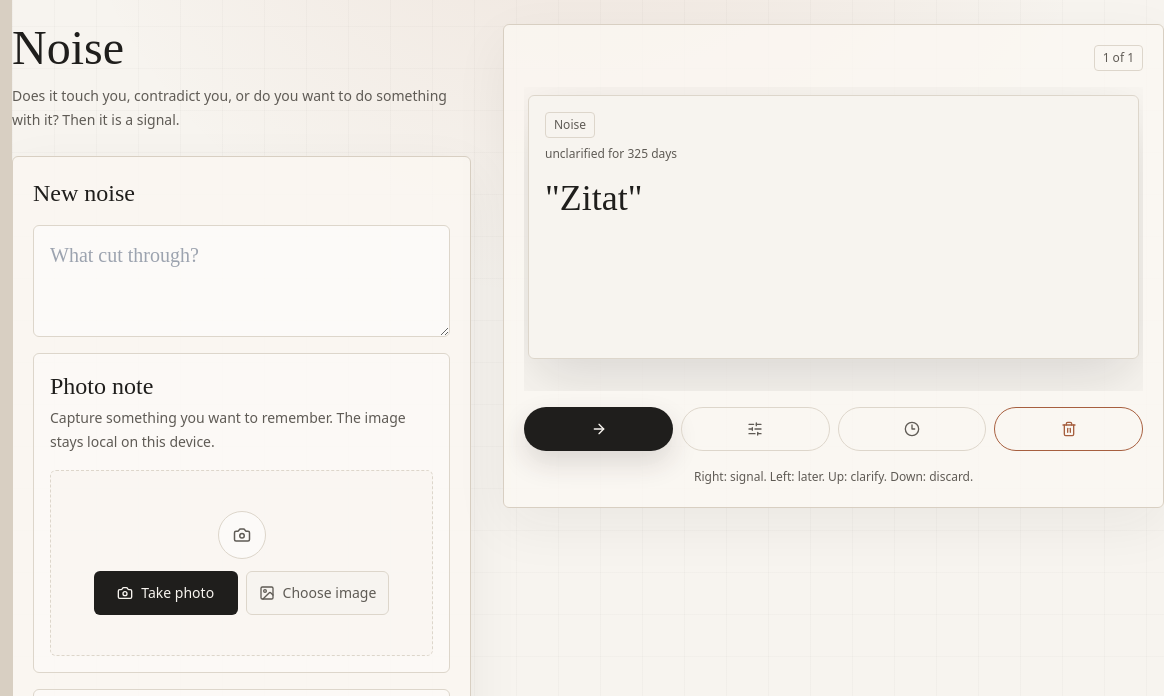
Test case: InboxPage › Details › öffnet „Mehr Details“ automatisch, wenn Quelle schon einen Wert hat
Check: the text "\"Zitat\"" is shown, box [545,178,643,218]
Step 1. Click the button named "Clarify" → (755, 429), box [681,407,830,451]
(page scrolled)
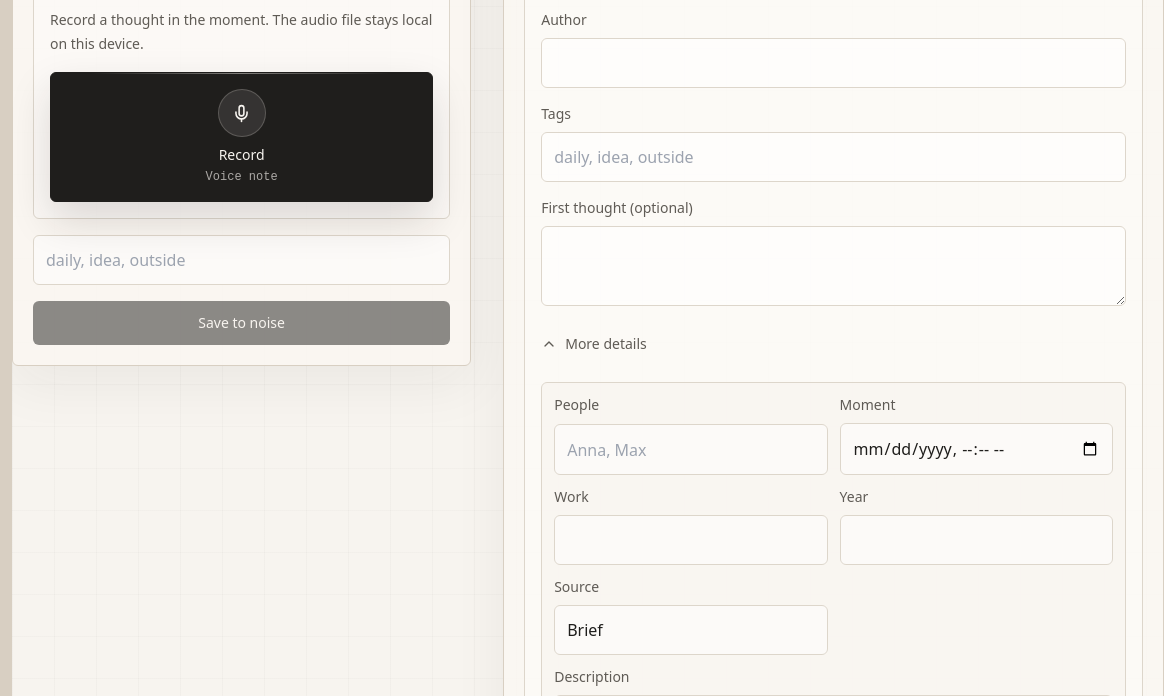
Check: the field labelled "Source" holds "Brief", box [554,605,828,655]
